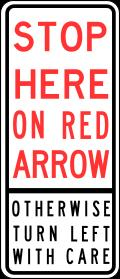Stop: (5, 4, 116, 186)
